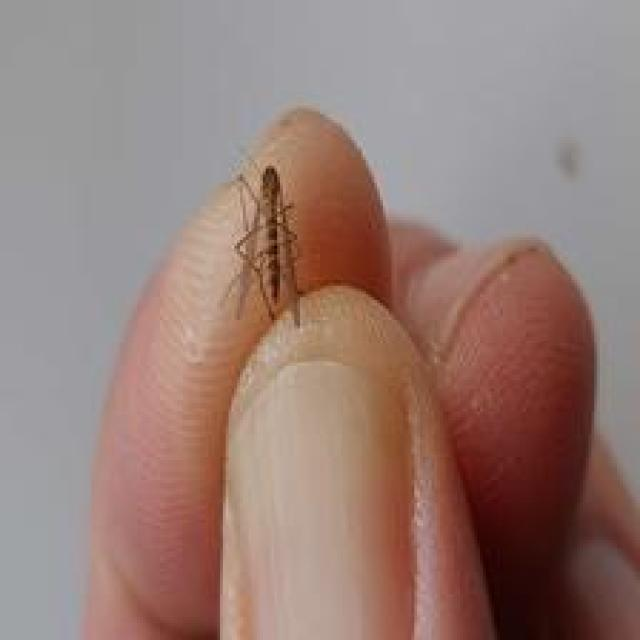Culex: (226, 163, 306, 328)
